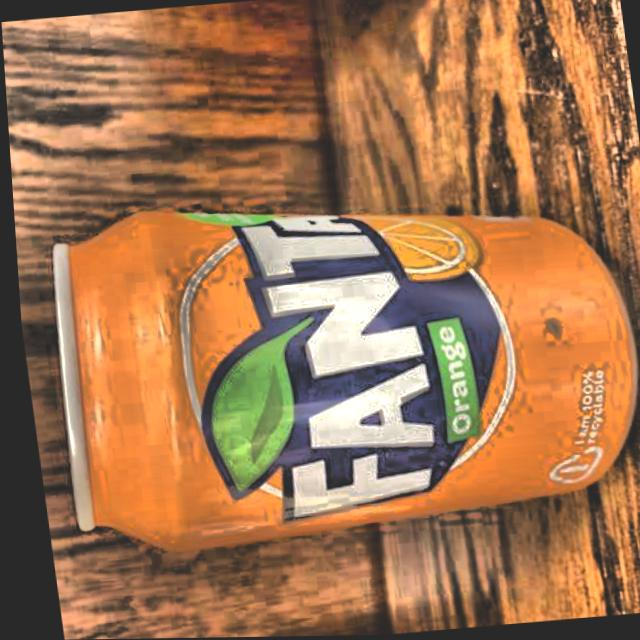Cans: (23, 168, 640, 569)
